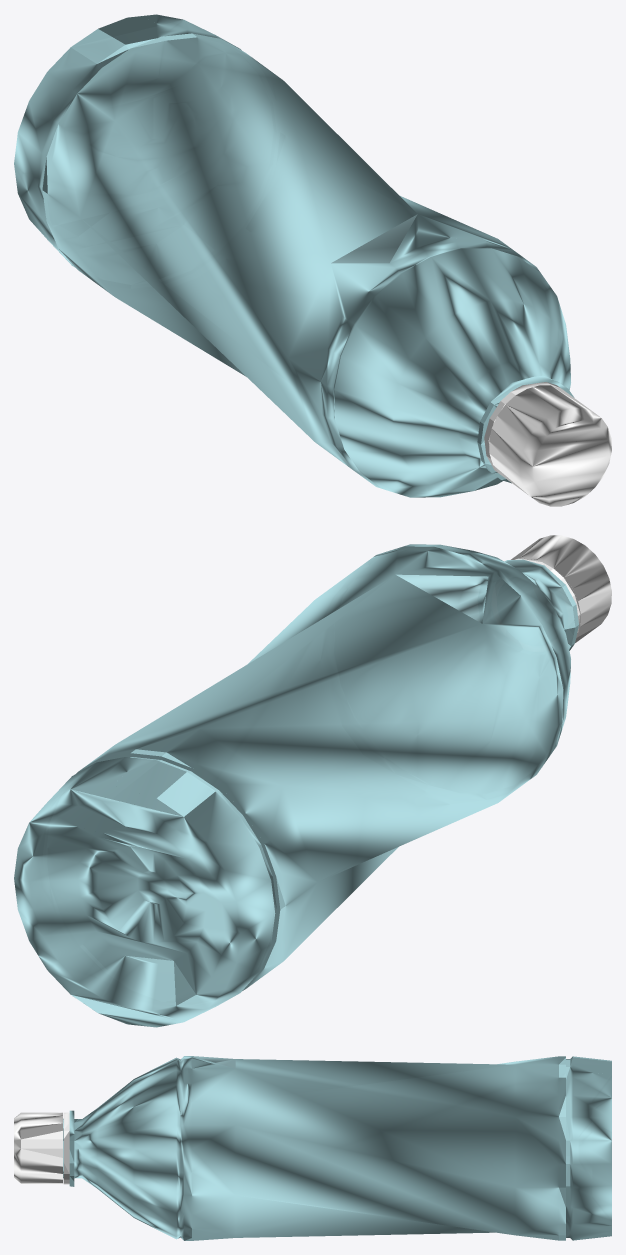
File: model_align.obj
The picture shows the model from 3 angles, top to bottom: view 1: azimuth 30°, elevation 25°; view 2: azimuth 150°, elevation 25°; view 3: azimuth 270°, elevation 25°; orthographic projection. The views are drawn at different scales.
Bounding box in the file's own units: 0.0484 × 0.0484 × 0.1564.
